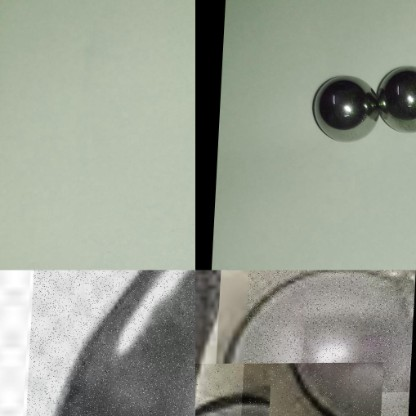ironball: (244, 270, 415, 415), (26, 270, 195, 415), (195, 362, 386, 415), (311, 72, 378, 145), (374, 61, 414, 139)
